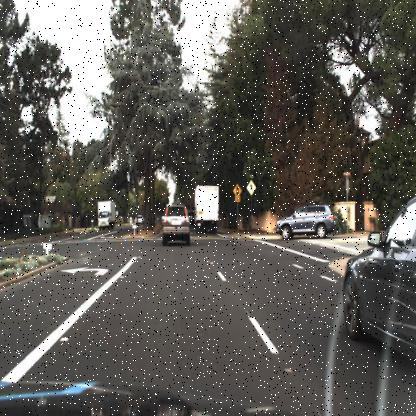car: (340, 188, 415, 367), (272, 201, 336, 243), (273, 204, 336, 241), (157, 195, 193, 252), (190, 182, 223, 236), (96, 197, 117, 231), (137, 212, 143, 224)
truck: (194, 182, 220, 232), (96, 200, 116, 232)
